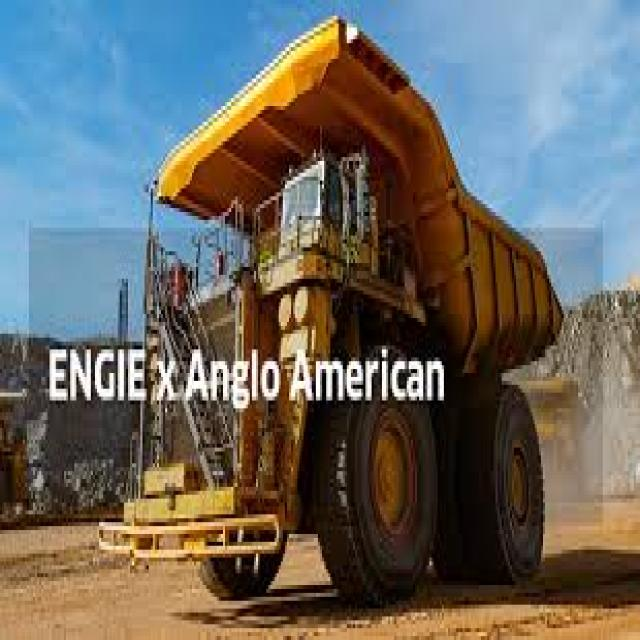dump_truck: (124, 16, 555, 608)
